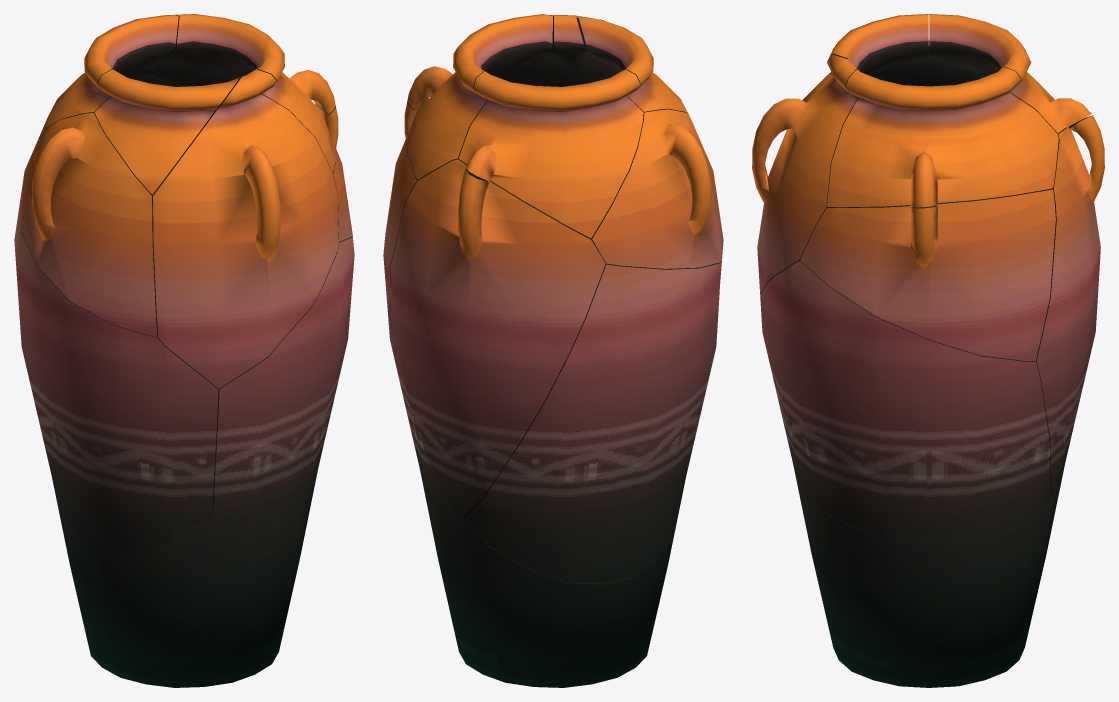
Rendered from Vase_Big_Shards.glb.
3 renders of one model, left to right at view 1: azimuth 30°, elevation 25°; view 2: azimuth 150°, elevation 25°; view 3: azimuth 270°, elevation 25°, orthographic.
Parts seen in each view (by area): view 1: Shard_09, Shard_00, Shard_07, Shard_08, Shard_02, Shard_05, Shard_03, Shard_06, Shard_01; view 2: Shard_00, Shard_04, Shard_07, Shard_06, Shard_08, Shard_05, Shard_03, Shard_09, Shard_01, Shard_02; view 3: Shard_02, Shard_07, Shard_01, Shard_05, Shard_04, Shard_09, Shard_06, Shard_03, Shard_08.
Part boxes in pixels (bbox=[...]): Shard_09: bbox=[153, 69, 338, 388]; Shard_00: bbox=[14, 196, 218, 560]; Shard_07: bbox=[67, 489, 313, 687]; Shard_08: bbox=[21, 112, 157, 337]; Shard_02: bbox=[212, 233, 354, 512]; Shard_05: bbox=[152, 14, 335, 172]; Shard_03: bbox=[94, 69, 239, 194]; Shard_06: bbox=[38, 14, 178, 138]; Shard_01: bbox=[205, 96, 352, 241]; Shard_00: bbox=[463, 253, 722, 583]; Shard_04: bbox=[390, 159, 605, 518]; Shard_07: bbox=[424, 491, 674, 687]; Shard_06: bbox=[458, 69, 643, 238]; Shard_08: bbox=[590, 109, 723, 268]; Shard_05: bbox=[407, 14, 552, 179]; Shard_03: bbox=[578, 18, 688, 113]; Shard_09: bbox=[521, 15, 681, 100]; Shard_01: bbox=[383, 102, 423, 319]; Shard_02: bbox=[388, 237, 589, 510]; Shard_02: bbox=[760, 261, 1051, 542]; Shard_07: bbox=[793, 463, 1057, 687]; Shard_01: bbox=[800, 189, 1055, 361]; Shard_05: bbox=[827, 67, 1058, 207]; Shard_04: bbox=[1036, 115, 1104, 495]; Shard_09: bbox=[752, 54, 858, 293]; Shard_06: bbox=[929, 14, 1091, 133]; Shard_03: bbox=[829, 14, 928, 74]; Shard_08: bbox=[868, 40, 980, 86].
Bounding box in the file's own units: 0.5191 × 0.9708 × 0.52.
Materials: 1 (1 with a texture image).
